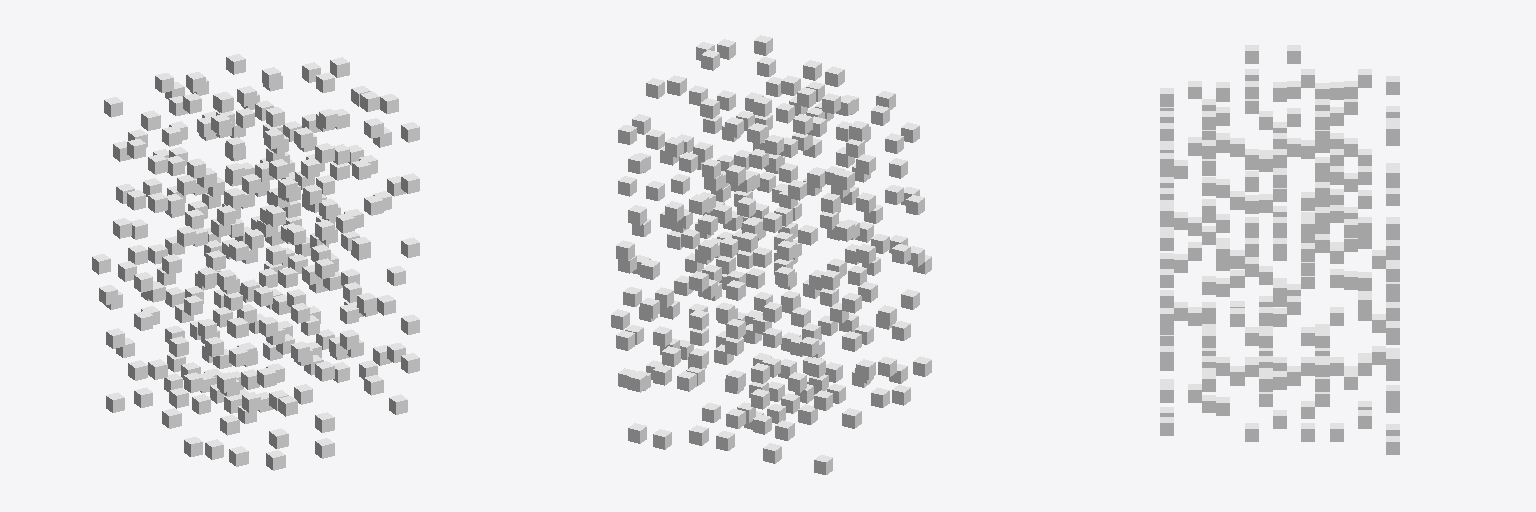
File: fire-05.obj
The picture shows the model from 3 angles: view 1: azimuth 30°, elevation 25°; view 2: azimuth 150°, elevation 25°; view 3: azimuth 270°, elevation 25°; orthographic projection.
Bounding box in the file's own units: 17 × 25 × 17.